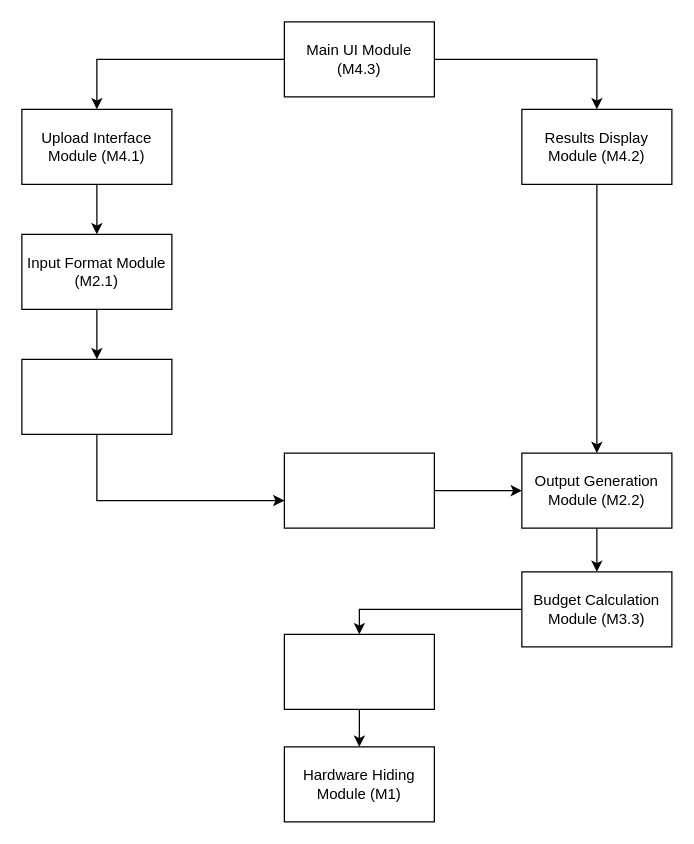
The diagram is 694 pixels wide and 844 high, and some of its shapes have lost their labels. Here are the shapes that lost their labels. From the top down, the box of each, then its label:
(21, 358, 172, 434): OCR Processing Module (M3.1)
(283, 452, 434, 528): Machine Learning Module (M3.2)
(283, 633, 434, 709): Authentication Module (M5)
